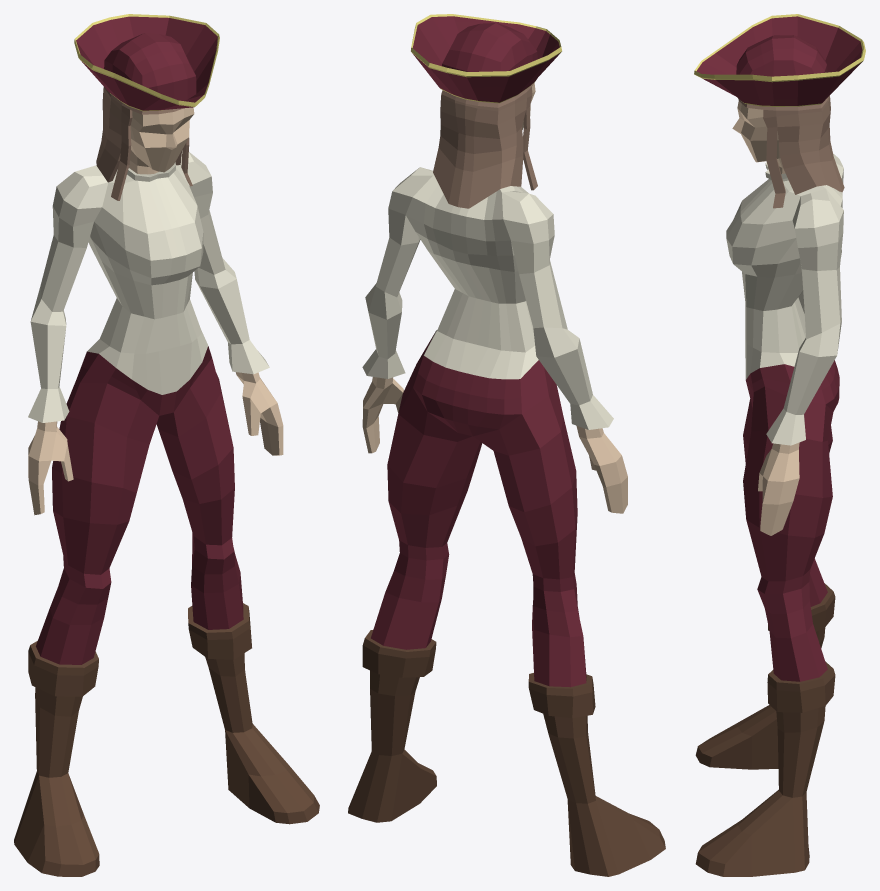
The model's file is Female Pirate Captain.fbx.
3 views of the same model, side by side, from view 1: azimuth 30°, elevation 25°; view 2: azimuth 150°, elevation 25°; view 3: azimuth 270°, elevation 25° (orthographic). The views are drawn at different scales.
Visible parts, largest first — view 1: pCube10; view 2: pCube10; view 3: pCube10.
Boxes of the visible parts, box(x1,y1,x2,y2) form: pCube10: box(14, 14, 319, 876); pCube10: box(348, 14, 665, 876); pCube10: box(694, 14, 865, 876).
Bounding box in the file's own units: 3.07 × 8.23 × 1.66.
